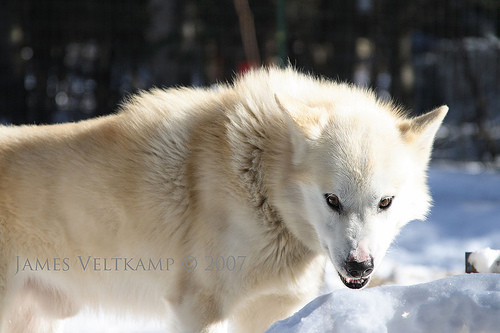dog: (0, 67, 448, 332)
